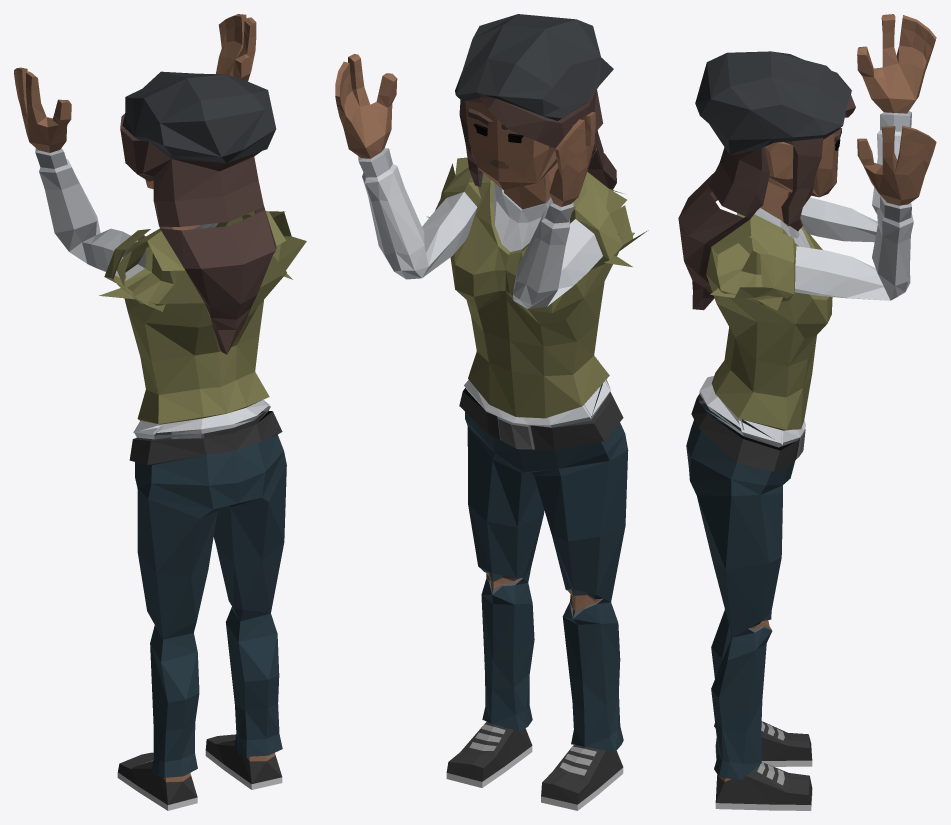
File: Demon_Daughter_01_fists.obj
The picture shows the model from 3 angles, left to right: view 1: azimuth 30°, elevation 25°; view 2: azimuth 150°, elevation 25°; view 3: azimuth 270°, elevation 25°; orthographic projection. The views are drawn at different scales.
Parts seen in each view (by area): view 1: Demon_Daughter_01_fists; view 2: Demon_Daughter_01_fists; view 3: Demon_Daughter_01_fists.
Boxes of the visible parts, x1,y1,x2,y2 form: Demon_Daughter_01_fists: (14,14,306,810); Demon_Daughter_01_fists: (335,14,648,810); Demon_Daughter_01_fists: (678,14,936,810).
Bounding box in the file's own units: 0.6235 × 1.84 × 0.5968.
1 material, 1 textured.
